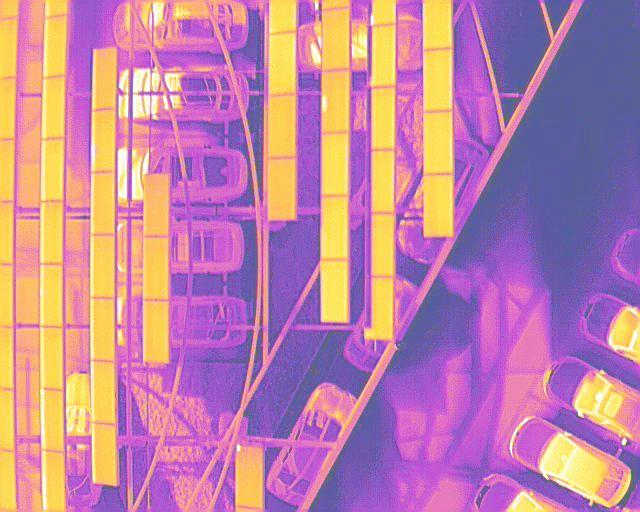Cell: (236, 445, 264, 507)
No-Anomaly: (322, 7, 351, 72), (423, 172, 452, 237), (425, 48, 454, 111), (425, 110, 453, 175), (268, 32, 296, 96), (268, 156, 296, 220), (269, 93, 296, 159), (322, 132, 349, 197), (92, 47, 119, 111), (322, 195, 349, 259), (322, 259, 349, 322), (43, 15, 68, 81), (91, 234, 116, 300), (40, 136, 65, 201), (144, 237, 169, 302), (91, 172, 116, 236), (371, 86, 396, 149), (144, 174, 169, 237), (42, 74, 65, 141), (39, 263, 63, 327), (372, 149, 395, 215), (40, 200, 63, 266), (372, 24, 396, 87), (144, 300, 169, 360), (90, 300, 114, 362), (92, 360, 115, 424), (42, 326, 64, 392), (92, 423, 115, 486), (372, 215, 395, 277), (372, 278, 395, 339)
Unclassified: (322, 67, 350, 134), (92, 108, 116, 173), (41, 389, 63, 452), (42, 451, 63, 512)
